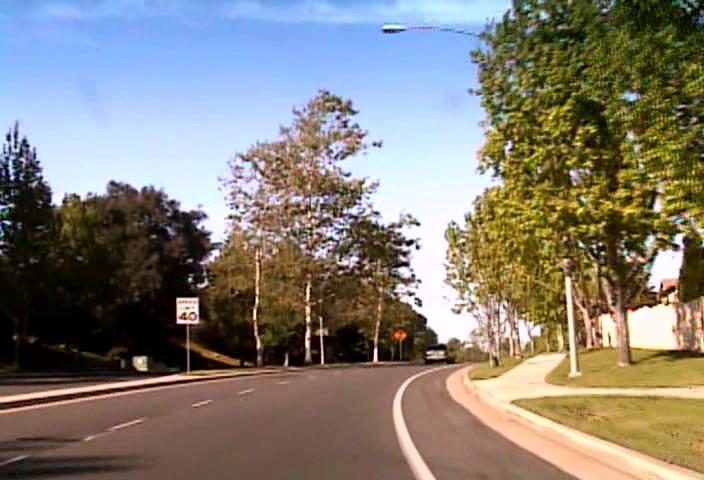speedLimit40: (175, 296, 199, 324)
